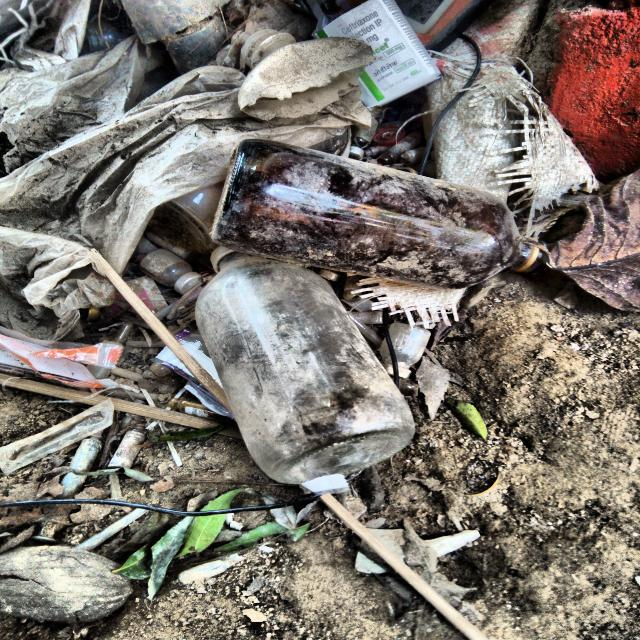anorganik: (0, 34, 373, 339), (195, 246, 416, 494), (211, 140, 540, 291), (430, 41, 597, 209), (238, 26, 375, 119), (0, 325, 124, 393), (0, 397, 113, 471), (351, 277, 466, 326), (123, 0, 242, 42), (380, 323, 432, 380), (138, 250, 200, 295), (347, 119, 380, 159), (377, 136, 416, 166), (372, 125, 407, 146), (401, 146, 426, 165), (364, 145, 392, 157)
b3: (33, 429, 104, 544), (108, 423, 147, 474), (168, 398, 235, 425)
organik: (318, 495, 489, 640), (89, 248, 232, 412), (543, 155, 640, 312), (313, 0, 442, 109), (111, 513, 229, 601), (0, 546, 133, 622), (213, 501, 315, 553), (113, 400, 241, 438), (444, 401, 488, 438), (150, 474, 175, 493)
